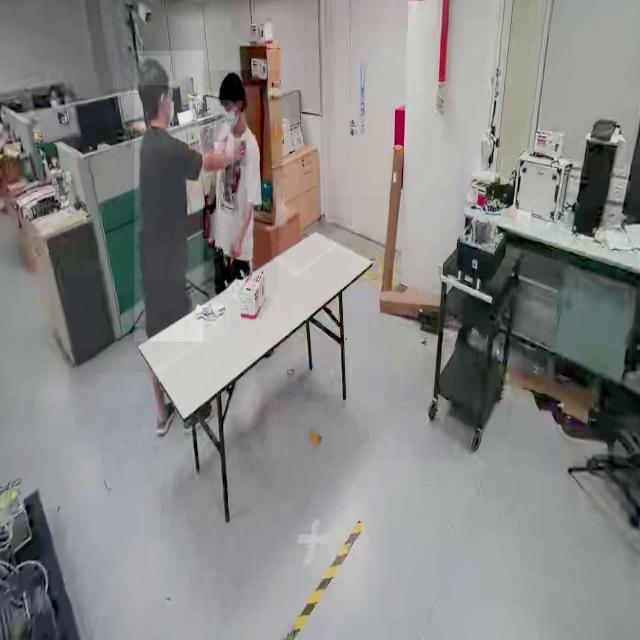face_mask: (220, 100, 244, 138)
hand_noglove: (203, 205, 213, 239), (234, 141, 246, 167), (230, 238, 243, 256), (213, 142, 226, 155)
head_nohelmet: (138, 56, 170, 86), (218, 70, 244, 100)
person: (134, 51, 204, 342), (201, 70, 279, 295)
